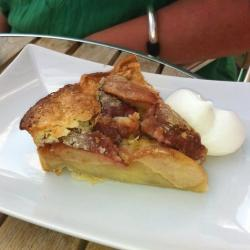apple_pie: (25, 59, 212, 223)
chantilly: (162, 81, 245, 164)
